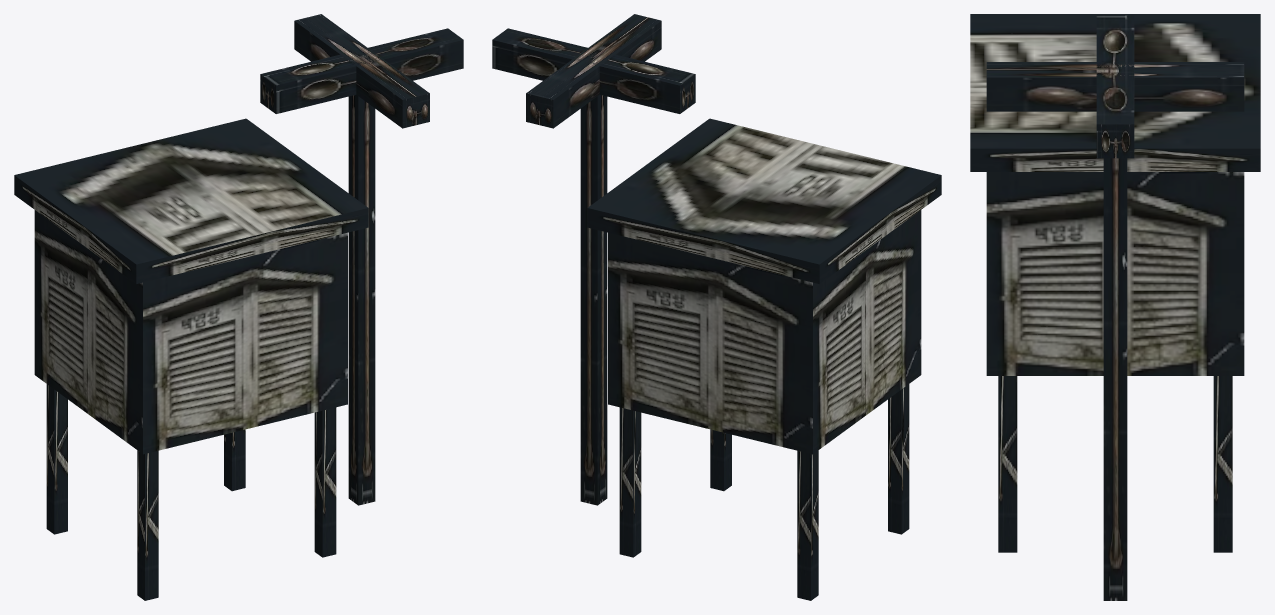
The model's file is sf_anim_weather_radar.glb.
The picture shows the model from 3 angles, left to right: view 1: azimuth 30°, elevation 25°; view 2: azimuth 150°, elevation 25°; view 3: azimuth 270°, elevation 25°; orthographic projection. The views are drawn at different scales.
Visible parts, largest first — view 1: AnemometerStevensonScreen_Root, AnemometerStevensonScreen_AnimPart; view 2: AnemometerStevensonScreen_Root, AnemometerStevensonScreen_AnimPart; view 3: AnemometerStevensonScreen_Root, AnemometerStevensonScreen_AnimPart.
Boxes of the visible parts, left/top/right/bottom form: AnemometerStevensonScreen_Root: left=14, top=95, right=375, bottom=600; AnemometerStevensonScreen_AnimPart: left=260, top=14, right=463, bottom=128; AnemometerStevensonScreen_Root: left=580, top=95, right=941, bottom=600; AnemometerStevensonScreen_AnimPart: left=492, top=14, right=695, bottom=128; AnemometerStevensonScreen_Root: left=970, top=14, right=1260, bottom=600; AnemometerStevensonScreen_AnimPart: left=986, top=15, right=1244, bottom=158.
Bounding box in the file's own units: 2.23 × 2.48 × 1.24.
1 material, 1 textured.
